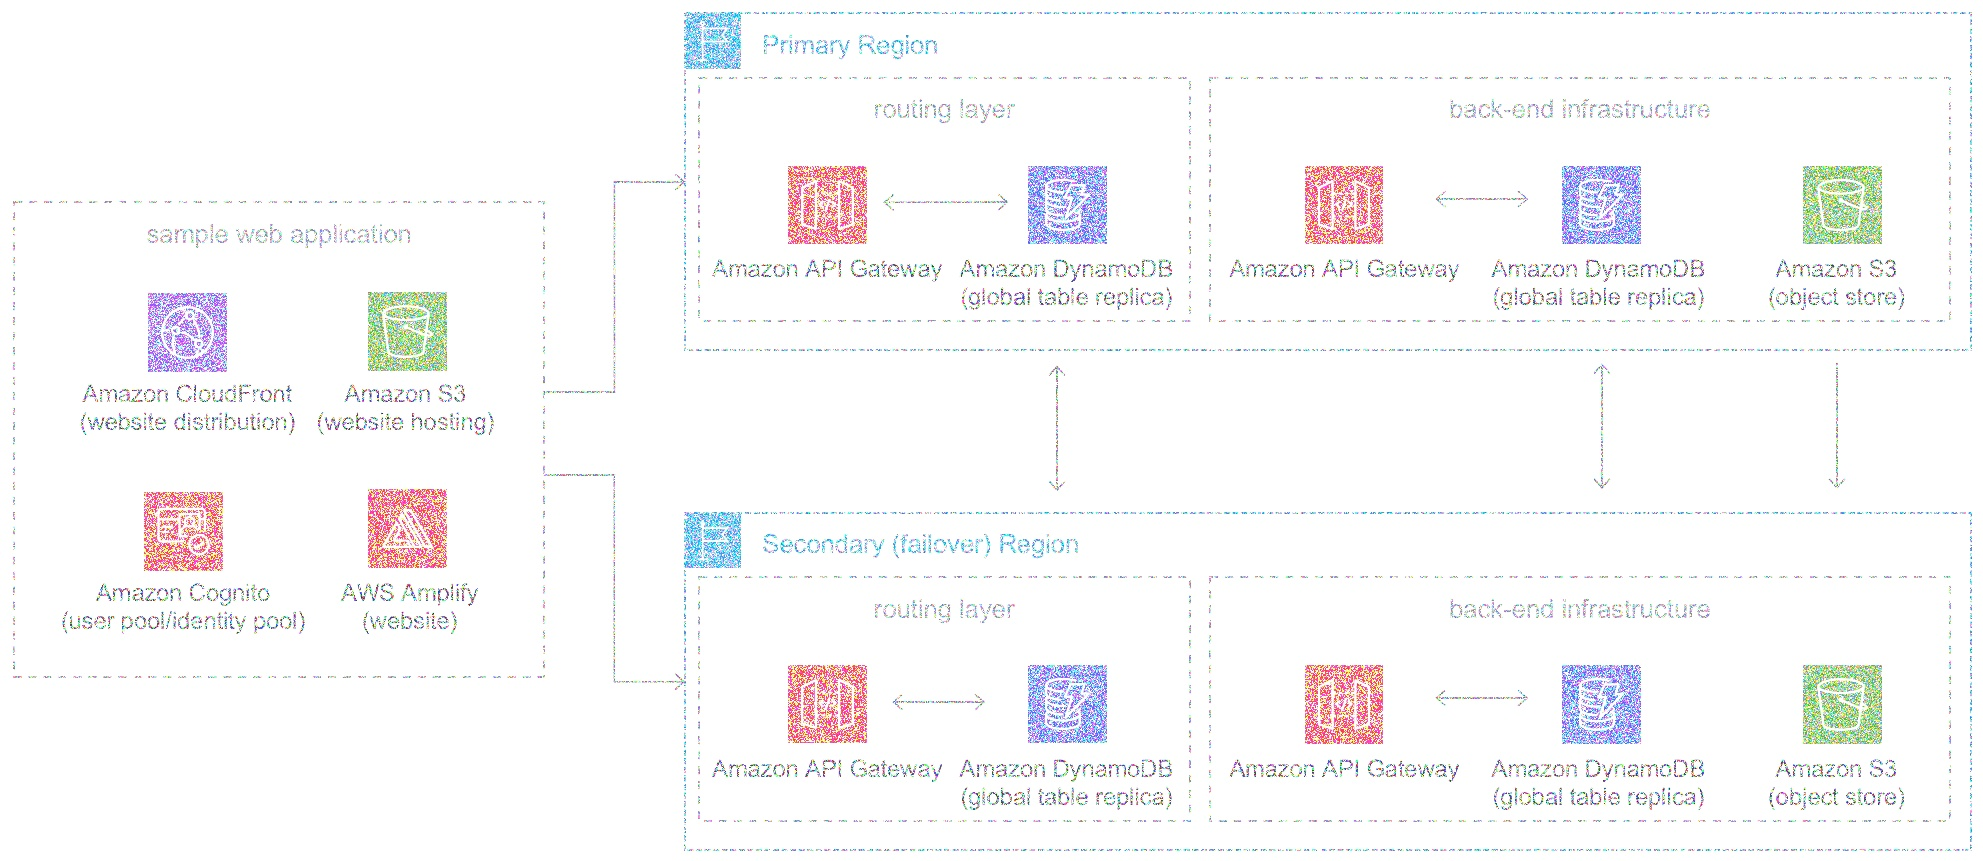API-Gateway: (783, 661, 876, 751), (1299, 159, 1391, 248), (783, 161, 873, 250), (1299, 661, 1389, 750)
Amplify: (361, 479, 455, 573)
Cloudfront: (147, 289, 233, 378)
Cognito: (135, 487, 233, 580)
Dynamo DB: (1019, 657, 1118, 749), (1025, 163, 1113, 252), (1559, 161, 1648, 248), (1561, 659, 1645, 747)
Region: (677, 7, 748, 75), (681, 505, 746, 574)
S3: (1797, 657, 1888, 751), (363, 285, 453, 377), (1799, 161, 1885, 248)
